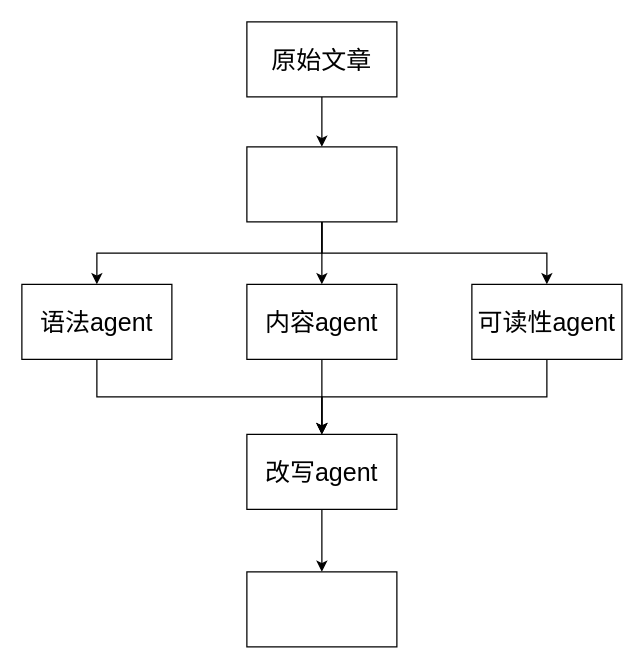
The diagram is 644 pixels wide and 669 high, and some of its shapes have lost their labels. The shapes that lost their labels are listed below. From the top down, each one's centre as x and y in pixels, then its label:
At pixel 321 184: "主题agent".
At pixel 321 609: "改写后文章".
